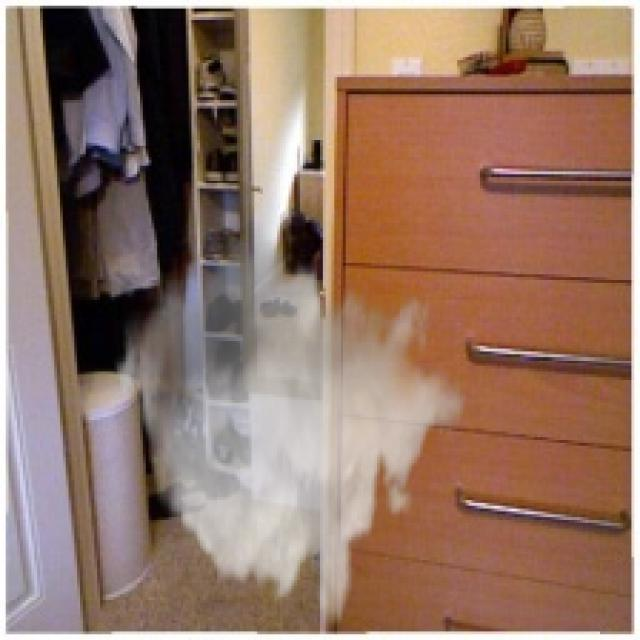Smoke: (111, 219, 466, 632)
